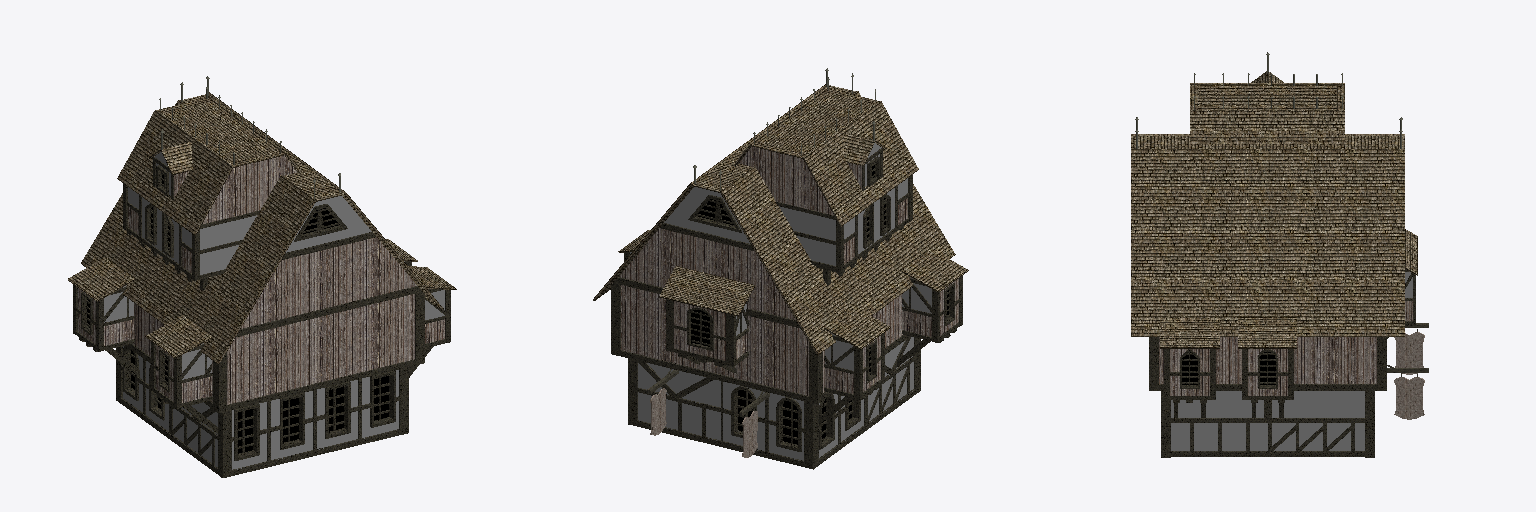
3 views of the same model, side by side, from view 1: azimuth 30°, elevation 25°; view 2: azimuth 150°, elevation 25°; view 3: azimuth 270°, elevation 25° (orthographic).
Visible parts, largest first — view 1: Medieval_building; view 2: Medieval_building; view 3: Medieval_building.
Boxes of the visible parts, box(x1,y1,x2,y2) form: Medieval_building: box(68, 76, 456, 477); Medieval_building: box(593, 68, 968, 469); Medieval_building: box(1131, 52, 1428, 457).
Bounding box in the file's own units: 4.11 × 4.35 × 3.76.
20 materials, 6 textured.